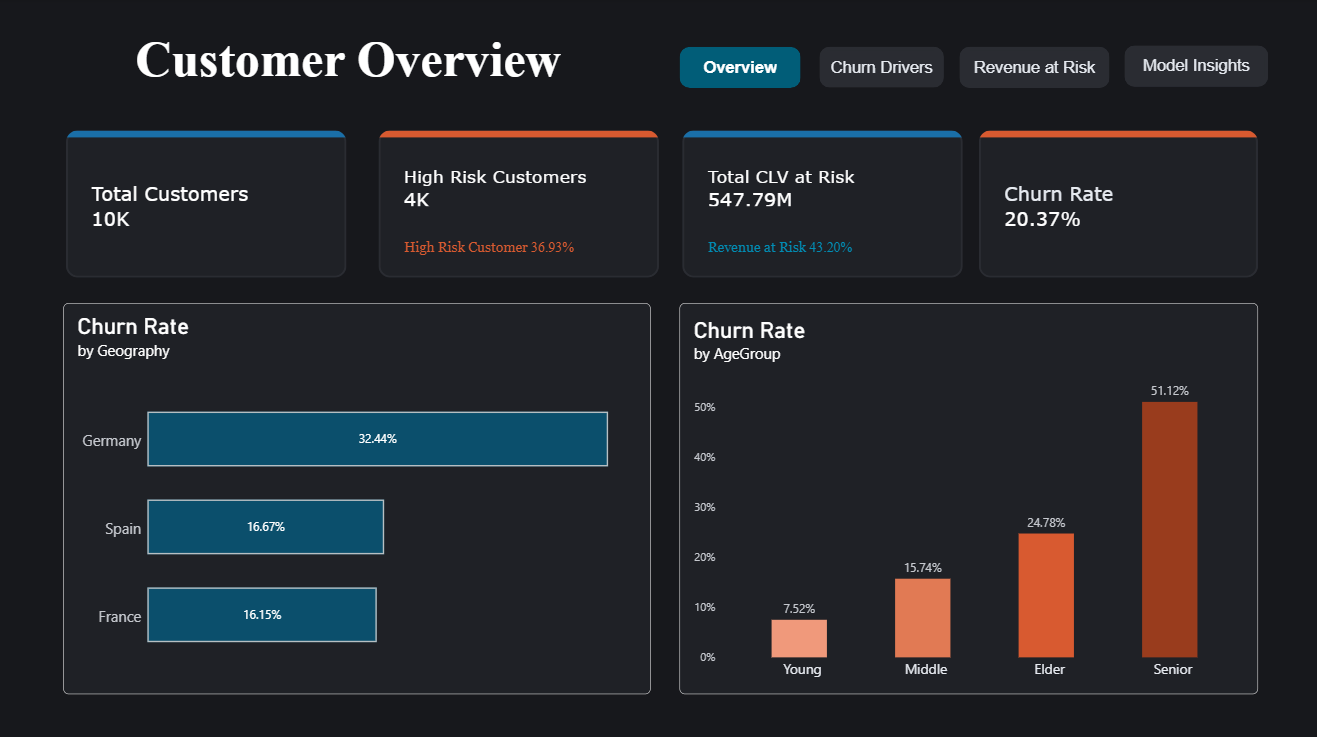

Layout of this report page (visuals, bound fields, positions):
{"tool":"powerbi","page":{"name":"Overview","canvas":[1920,1080],"ordinal":1},"visuals":[{"type":"clusteredBarChart","fields":{"Category":["churn_scored_data.Geography"],"Y":["churn_scored_data.Churn Rate"]},"box":[95.9,441.6,850.5,566.4],"z":0},{"type":"clusteredColumnChart","fields":{"Category":["churn_scored_data.AgeGroup"],"Y":["churn_scored_data.Churn Rate"]},"box":[988.1,441.6,837.9,566.4],"z":1000},{"type":"cardVisual","fields":{"Data":["churn_scored_data.Total Customers"]},"box":[95.9,191.8,410.8,213.5],"z":2000},{"type":"cardVisual","fields":{"Data":["churn_scored_data.Churn Rate"]},"box":[1415.2,191.8,410,213.5],"z":3000},{"type":"cardVisual","fields":{"Data":["churn_scored_data.Total CLV at Risk"]},"box":[988.1,191.8,410,213.5],"z":5000},{"type":"shape","box":[1190.8,70.6,180,59],"z":6000},{"type":"shape","box":[1393.4,70.6,217.2,59.7],"z":7000},{"type":"shape","box":[1632.3,68.8,208,59.7],"z":8000},{"type":"shape","box":[988.1,70.6,175.5,59.7],"z":9000},{"type":"textbox","box":[155.6,47.1,705.8,97.7],"z":10000},{"type":"cardVisual","fields":{"Data":["churn_scored_data.High Risk Customers"]},"box":[548.3,191.8,410,213.5],"z":10001}]}

Visuals, with their boxes in screenshot pixels (x1, y1, x2, y2), scaled from the page's 1920x1080 canvas onto the 1317x737 screenshot:
clusteredBarChart - churn_scored_data.Geography x churn_scored_data.Churn Rate: 66/301/649/688
clusteredColumnChart - churn_scored_data.AgeGroup x churn_scored_data.Churn Rate: 678/301/1253/688
cardVisual - churn_scored_data.Total Customers: 66/131/348/277
cardVisual - churn_scored_data.Churn Rate: 971/131/1252/277
cardVisual - churn_scored_data.Total CLV at Risk: 678/131/959/277
shape: 817/48/940/88
shape: 956/48/1105/89
shape: 1120/47/1262/88
shape: 678/48/798/89
textbox: 107/32/591/99
cardVisual - churn_scored_data.High Risk Customers: 376/131/657/277
